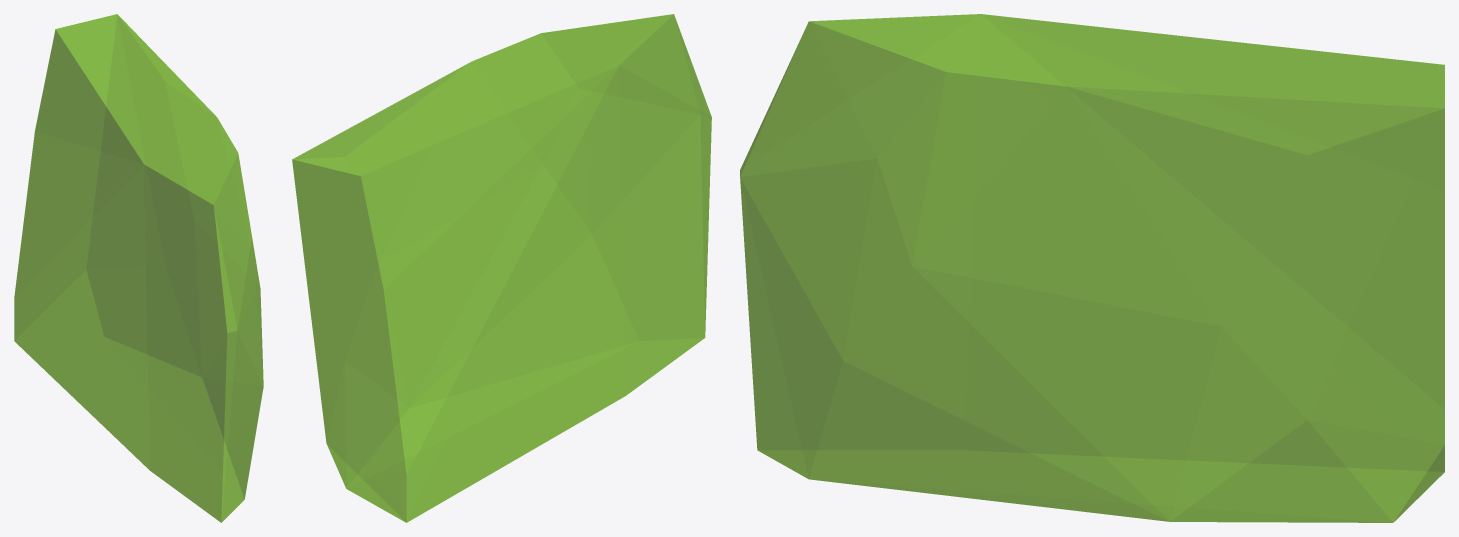
3 renders of one model, left to right at view 1: azimuth 30°, elevation 25°; view 2: azimuth 150°, elevation 25°; view 3: azimuth 270°, elevation 25°, orthographic. The views are drawn at different scales.
Parts seen in each view (by area): view 1: Shape_IndexedFaceSet.054_Shape_IndexedFaceSet.7805; view 2: Shape_IndexedFaceSet.054_Shape_IndexedFaceSet.7805; view 3: Shape_IndexedFaceSet.054_Shape_IndexedFaceSet.7805.
Part boxes in pixels (x1,y1,x2,y2): Shape_IndexedFaceSet.054_Shape_IndexedFaceSet.7805: [14, 14, 263, 522]; Shape_IndexedFaceSet.054_Shape_IndexedFaceSet.7805: [292, 14, 711, 522]; Shape_IndexedFaceSet.054_Shape_IndexedFaceSet.7805: [740, 14, 1444, 522].
Size of the model in its own units: 0.0177 by 0.0382 by 0.056.
